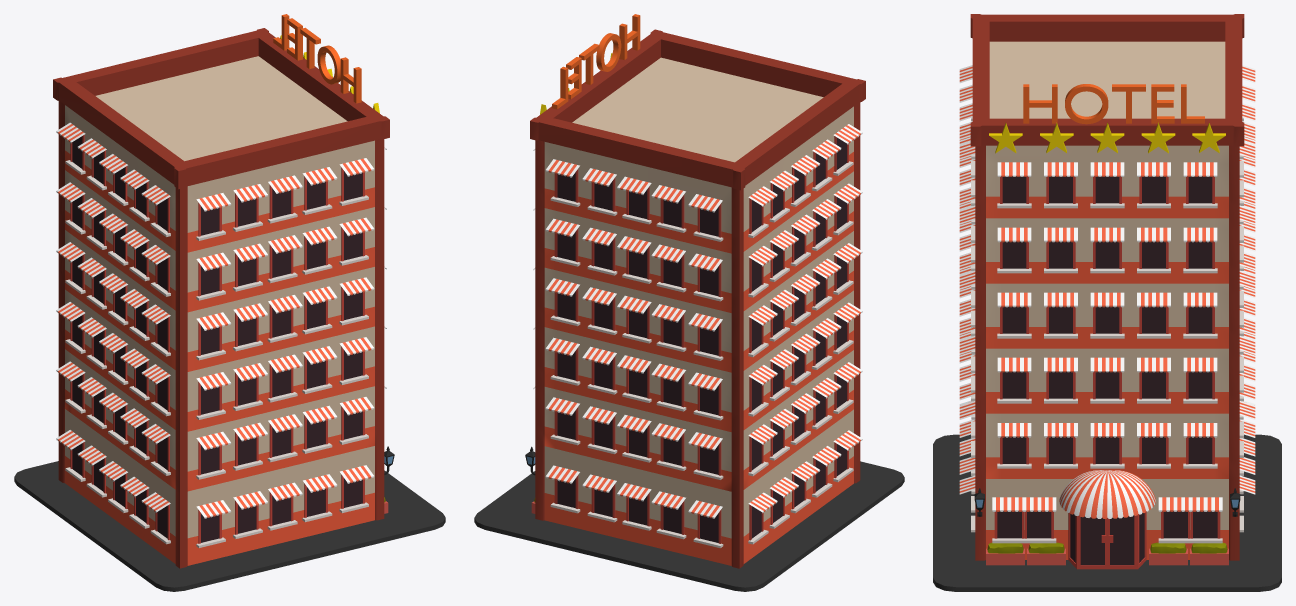
The picture shows the model from 3 angles, left to right: view 1: azimuth 30°, elevation 25°; view 2: azimuth 150°, elevation 25°; view 3: azimuth 270°, elevation 25°; orthographic projection. The views are drawn at different scales.
Parts seen in each view (by area): view 1: Hotel1; view 2: Hotel1; view 3: Hotel1.
Part boxes in pixels (left/top/right/bottom): Hotel1: left=14, top=14, right=445, bottom=591; Hotel1: left=474, top=14, right=904, bottom=591; Hotel1: left=933, top=14, right=1281, bottom=591.
Bounding box in the file's own units: 6.9 × 10.09 × 6.67.
Materials: 1 (1 with a texture image).
